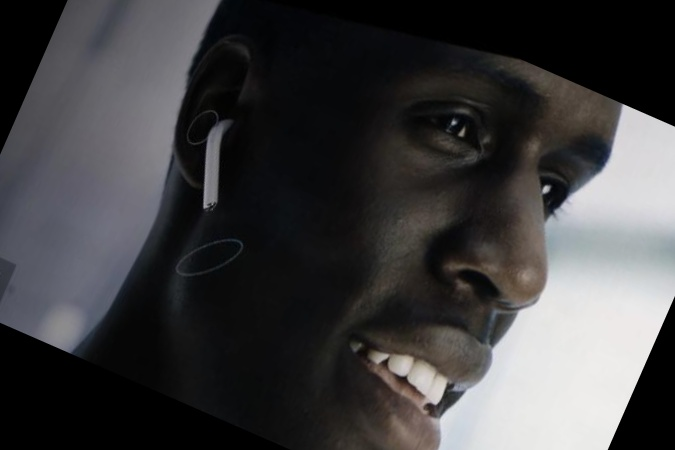earphone: (144, 22, 283, 214)
